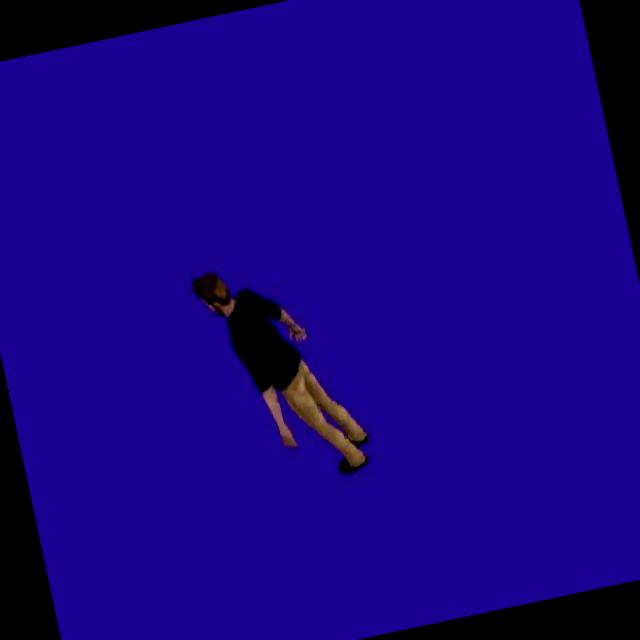Person: (185, 244, 381, 504)
